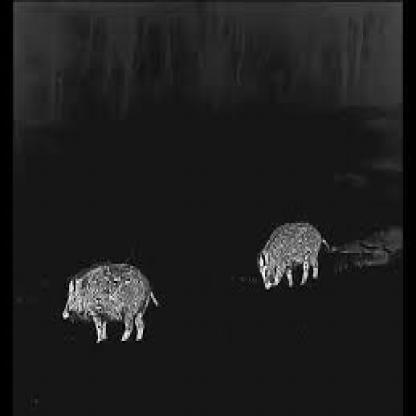rehkitze: (58, 263, 160, 346), (254, 219, 331, 293)
